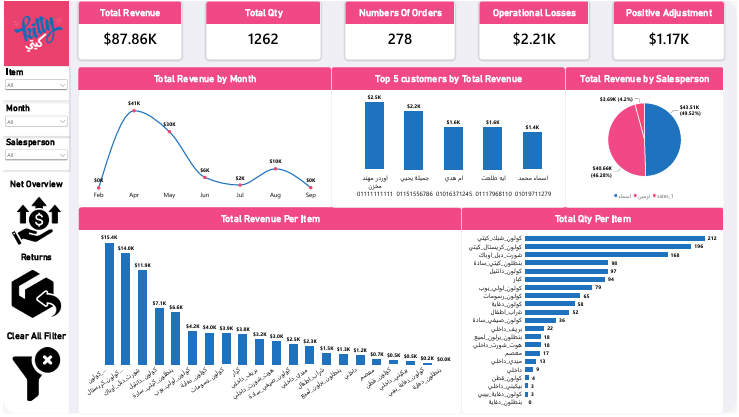

The dashboard page shown, as its layout file describes it:
{"tool":"powerbi","page":{"name":"Gross Overview","canvas":[1920,1080],"ordinal":2},"visuals":[{"type":"card","title":"Total Revenue","fields":{"Values":["_Measure.Total Revenue"]},"box":[196.5,0,270,153.1],"z":0},{"type":"card","title":"Total Qty","fields":{"Values":["_Measure.Sold Qty"]},"box":[530.8,0,299.8,153.1],"z":1000},{"type":"card","title":"Operational Losses","fields":{"Values":["_Measure.Opertional Loses"]},"box":[1246.2,0,287,153.1],"z":2000},{"type":"card","title":"Positive Adjustment","fields":{"Values":["_Measure.Positive Adjustment"]},"box":[1597.5,0,289.1,153.1],"z":3000},{"type":"image","box":[0,0,174.3,168],"z":4000},{"type":"lineChart","title":"Total Revenue by Month","fields":{"Category":["DimDate.Short Month"],"Y":["_Measure.Total Revenue"]},"box":[195.6,172.2,663.3,367.8],"z":5000},{"type":"clusteredBarChart","title":"Total Qty Per Item","fields":{"Category":["DimItem.الصنف"],"Y":["_Measure.Sold Qty"]},"box":[1199.4,539.2,685.4,541.7],"z":6000},{"type":"columnChart","title":"Total Revenue Per Item","fields":{"Category":["DimItem.الصنف"],"Y":["_Measure.Total Revenue"]},"box":[196.5,539.2,1002.8,541.7],"z":7000},{"type":"pieChart","title":"Total Revenue by Salesperson","fields":{"Category":["DimSalesperson.المسئول عن الاوردر"],"Y":["_Measure.Total Revenue"]},"box":[1471.2,172.2,414.6,367.8],"z":8000},{"type":"columnChart","title":"Top 5 customers by Total Revenue","fields":{"Category":["DimCustomer.رقم التليفون","DimCustomer.الاسم"],"Y":["_Measure.Total Revenue"]},"box":[858.9,172.2,612.3,367.8],"z":9000},{"type":"slicer","title":"Item","fields":{"Values":["DimItem.الصنف"]},"box":[0,171.3,173.9,88.2],"z":10000},{"type":"slicer","fields":{"Values":["DimDate.Full Month"]},"box":[0,267.1,173.9,88.2],"z":11000},{"type":"slicer","fields":{"Values":["DimSalesperson.المسئول عن الاوردر"]},"box":[0,355.3,173.9,88.2],"z":12000},{"type":"card","title":"Numbers Of Orders","fields":{"Values":["_Measure.Number Of Orders"]},"box":[894.9,0,287,153.1],"z":13000},{"type":"image","title":"Clear All Filter","box":[0,863.1,174.3,185],"z":13002},{"type":"image","title":"Net Overview","box":[0,465.6,174.3,176.5],"z":13003},{"type":"image","title":"Returns","box":[0,656.9,174.3,176.5],"z":13004}]}

Visuals, with their boxes in screenshot pixels (x1, y1, x2, y2), scaled from the page's 1920x1080 canvas onto the 739x417 screenshot:
"Total Revenue" card: [x1=76, y1=0, x2=180, y2=59]
"Total Qty" card: [x1=204, y1=0, x2=320, y2=59]
"Operational Losses" card: [x1=480, y1=0, x2=590, y2=59]
"Positive Adjustment" card: [x1=615, y1=0, x2=726, y2=59]
image: [x1=0, y1=0, x2=67, y2=65]
"Total Revenue by Month" lineChart: [x1=75, y1=66, x2=331, y2=208]
"Total Qty Per Item" clusteredBarChart: [x1=462, y1=208, x2=725, y2=416]
"Total Revenue Per Item" columnChart: [x1=76, y1=208, x2=462, y2=416]
"Total Revenue by Salesperson" pieChart: [x1=566, y1=66, x2=726, y2=208]
"Top 5 customers by Total Revenue" columnChart: [x1=331, y1=66, x2=566, y2=208]
"Item" slicer: [x1=0, y1=66, x2=67, y2=100]
slicer - DimDate.Full Month: [x1=0, y1=103, x2=67, y2=137]
slicer - DimSalesperson.المسئول عن الاوردر: [x1=0, y1=137, x2=67, y2=171]
"Numbers Of Orders" card: [x1=344, y1=0, x2=455, y2=59]
"Clear All Filter" image: [x1=0, y1=333, x2=67, y2=405]
"Net Overview" image: [x1=0, y1=180, x2=67, y2=248]
"Returns" image: [x1=0, y1=254, x2=67, y2=322]
